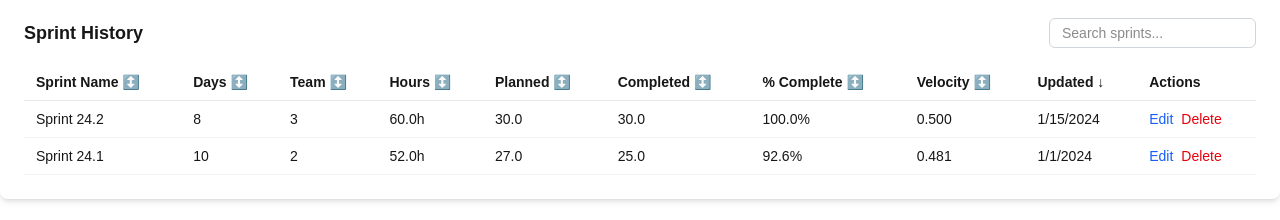
Scenario: SprintHistory › should filter sprints based on search term
In the field with placeholder "Search sprints...": (1152, 33) top-left (1049, 18), bottom-right (1256, 48), type "24.1"
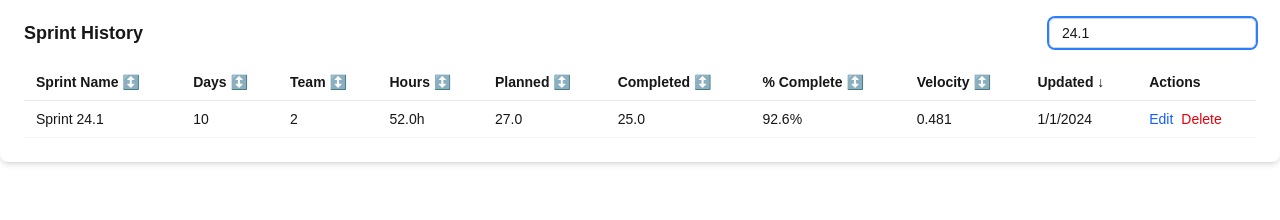
Expected: the text "Sprint 24.1" is shown, top-left (24, 100), bottom-right (181, 138)
Result: the text "Sprint 24.2" is gone
